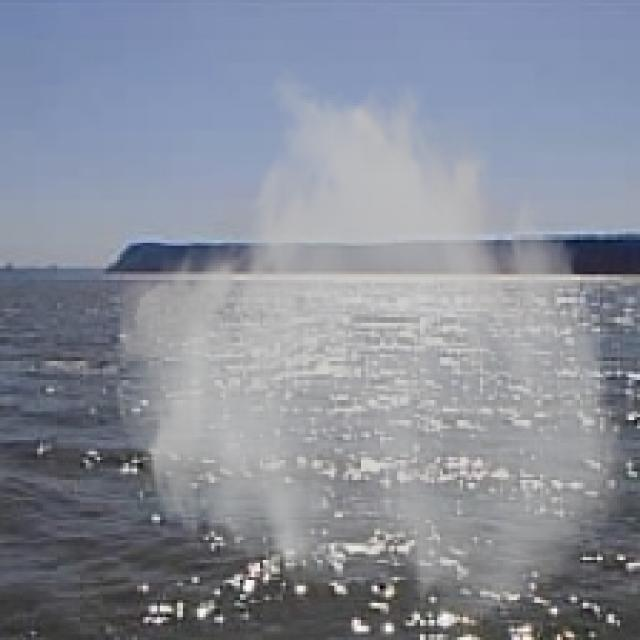Smoke: (109, 66, 632, 623)
